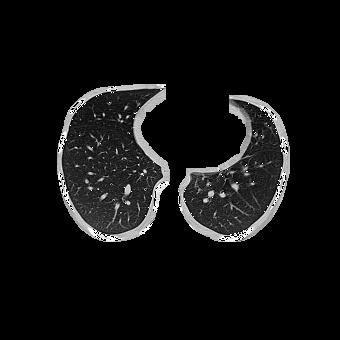PN: (84, 179, 88, 183)
